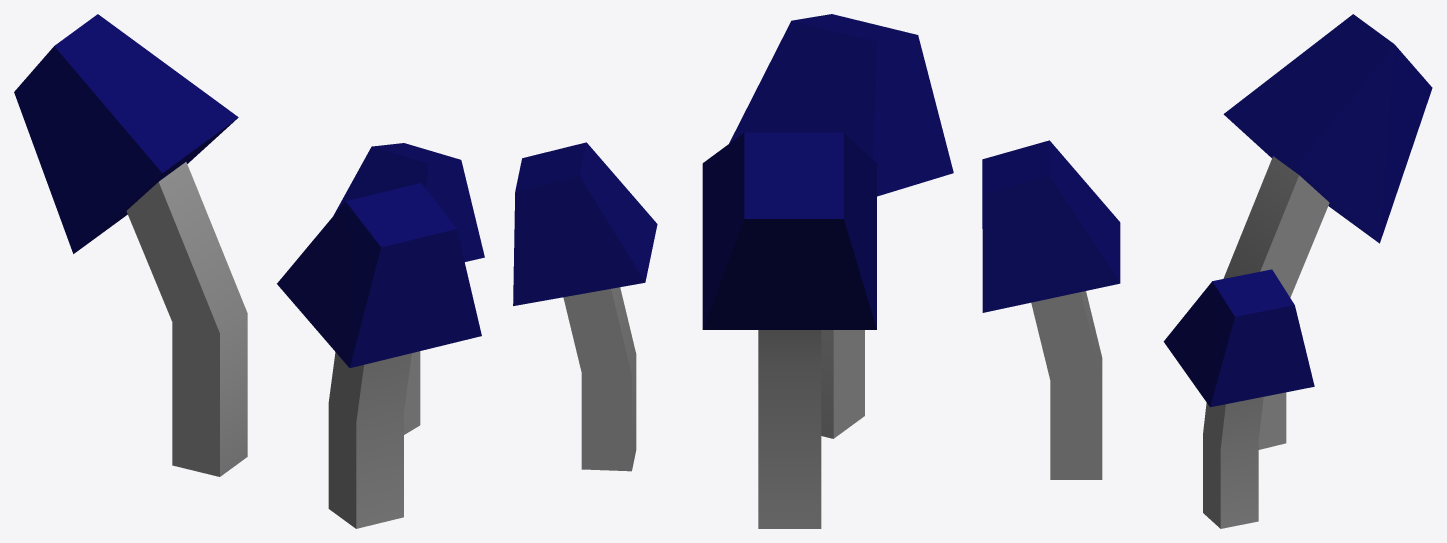
Rendered from Mushrooms Blue.FBX.
3 renders of one model, left to right at view 1: azimuth 30°, elevation 25°; view 2: azimuth 150°, elevation 25°; view 3: azimuth 270°, elevation 25°, orthographic. The views are drawn at different scales.
Parts seen in each view (by area): view 1: Box002, Box001; view 2: Box002, Box001; view 3: Box002, Box001.
Boxes of the visible parts, box(x1,y1,x2,y2) form: Box002: box(14, 14, 484, 476); Box001: box(277, 183, 481, 528); Box002: box(513, 132, 876, 528); Box001: box(729, 14, 953, 438); Box002: box(1163, 14, 1432, 528); Box001: box(982, 140, 1120, 479).
Bounding box in the file's own units: 3.91 × 3.98 × 4.29.
